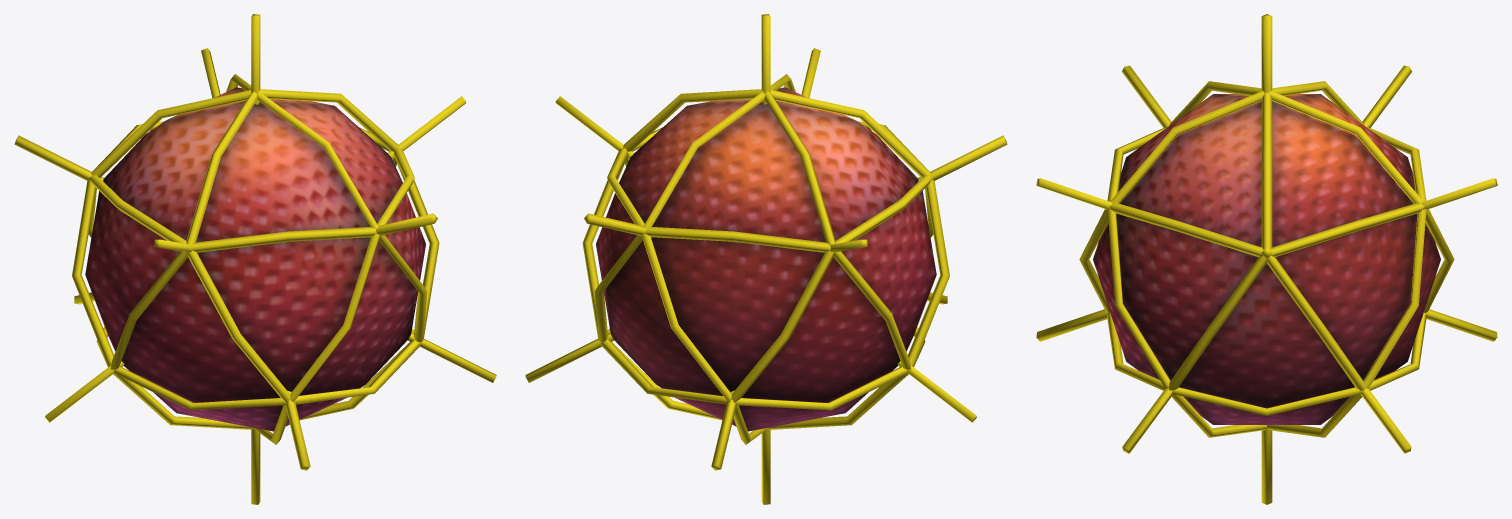
File: BallConcept_Small.fbx
3 renders of one model, left to right at view 1: azimuth 30°, elevation 25°; view 2: azimuth 150°, elevation 25°; view 3: azimuth 270°, elevation 25°, orthographic.
Visible parts, largest first — view 1: Inflated.003, Bars_Small; view 2: Inflated.003, Bars_Small; view 3: Inflated.003, Bars_Small.
Part boxes in pixels (x1,y1,x2,y2): Inflated.003: [85, 87, 425, 431]; Bars_Small: [14, 14, 496, 504]; Inflated.003: [596, 87, 936, 431]; Bars_Small: [525, 14, 1007, 504]; Inflated.003: [1093, 94, 1440, 424]; Bars_Small: [1036, 14, 1497, 504].
Bounding box in the file's own units: 4.69 × 4.47 × 5.19.
2 materials, 1 textured.
